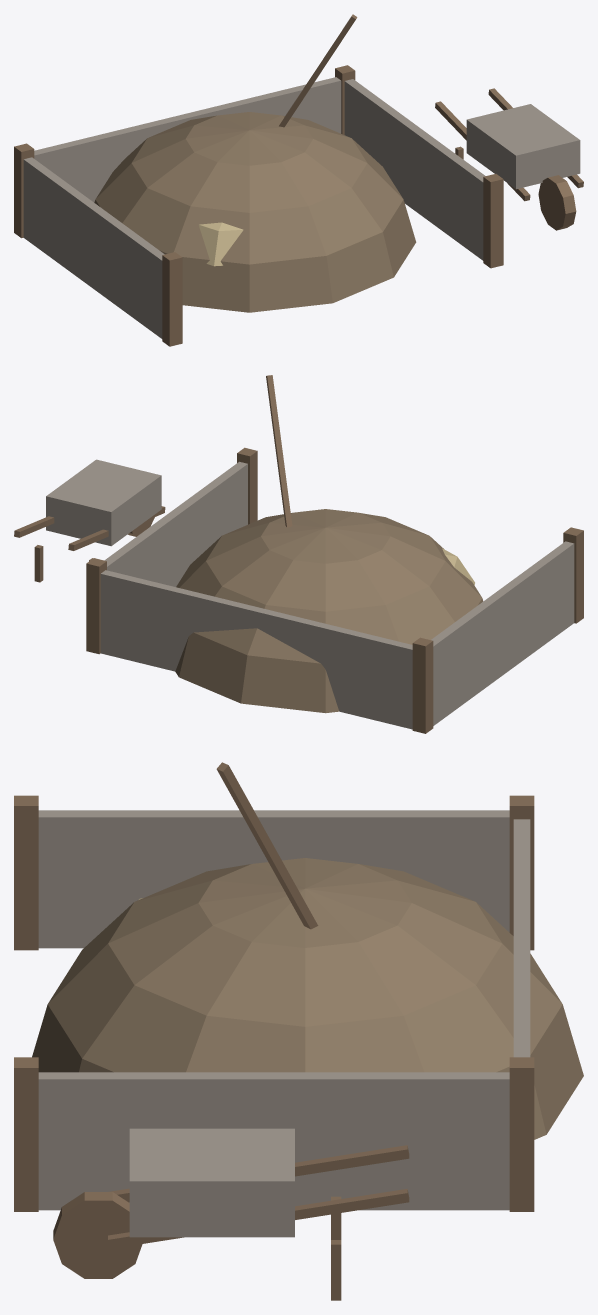
The model's file is dung_heap.glb.
The picture shows the model from 3 angles, top to bottom: view 1: azimuth 30°, elevation 25°; view 2: azimuth 150°, elevation 25°; view 3: azimuth 270°, elevation 25°; orthographic projection. The views are drawn at different scales.
Visible parts, largest first — view 1: DungHeap; view 2: DungHeap; view 3: DungHeap.
Part boxes in pixels (box(x1,y1,x2,y2)): DungHeap: box(14, 14, 583, 346); DungHeap: box(14, 375, 583, 733); DungHeap: box(14, 762, 583, 1300).
Size of the model in its own units: 4.16 by 2.01 by 2.76.
